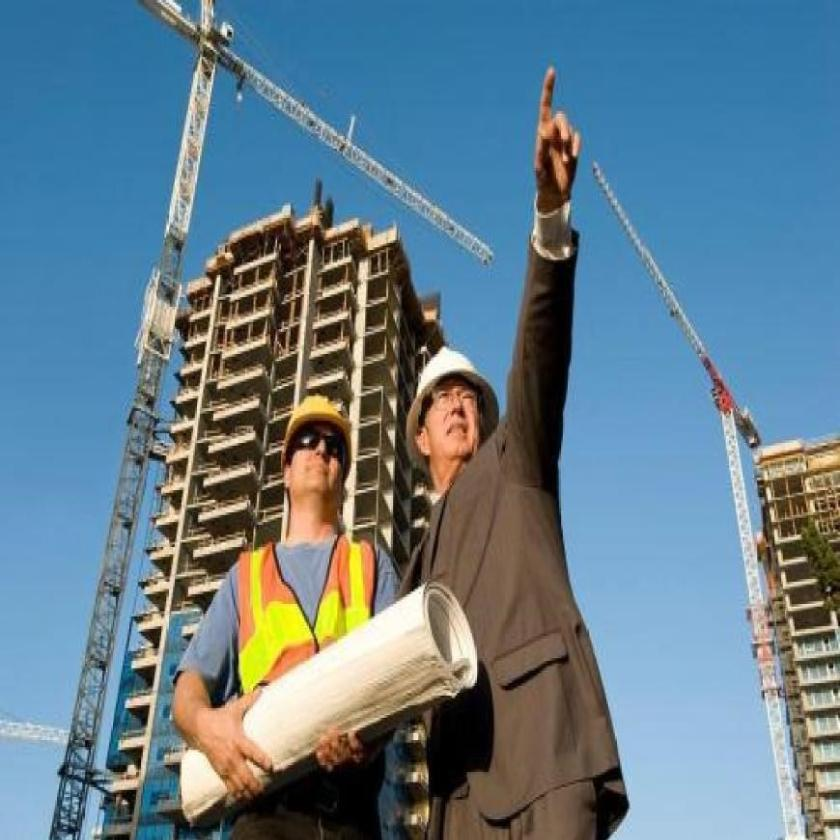Con_casco: (400, 337, 502, 464), (275, 372, 356, 528)
